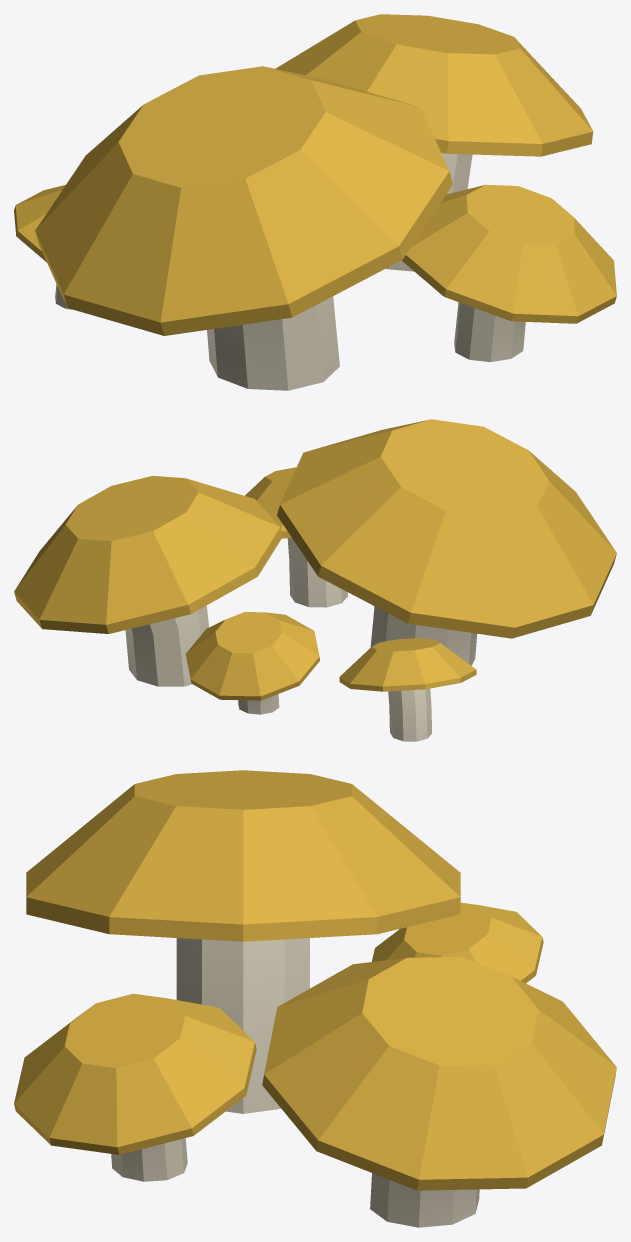
The model's file is YellowMushrooms.fbx.
3 renders of one model, top to bottom at view 1: azimuth 30°, elevation 25°; view 2: azimuth 150°, elevation 25°; view 3: azimuth 270°, elevation 25°, orthographic. The views are drawn at different scales.
Visible parts, largest first — view 1: YellowMushrooms; view 2: YellowMushrooms; view 3: YellowMushrooms.
Boxes of the visible parts, x1=… form: YellowMushrooms: x1=14, y1=14, x2=616, y2=390; YellowMushrooms: x1=14, y1=419, x2=616, y2=741; YellowMushrooms: x1=14, y1=770, x2=616, y2=1227.
Size of the model in its own units: 8.09 by 3.58 by 6.59.
